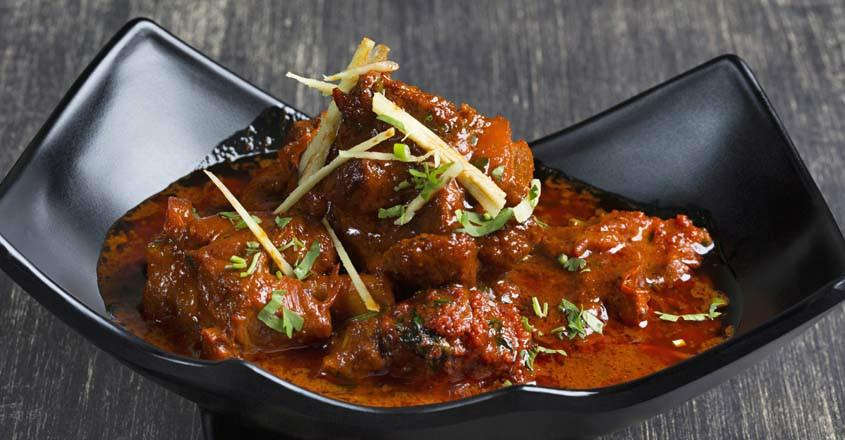MuttonCurry: (101, 36, 739, 404)
